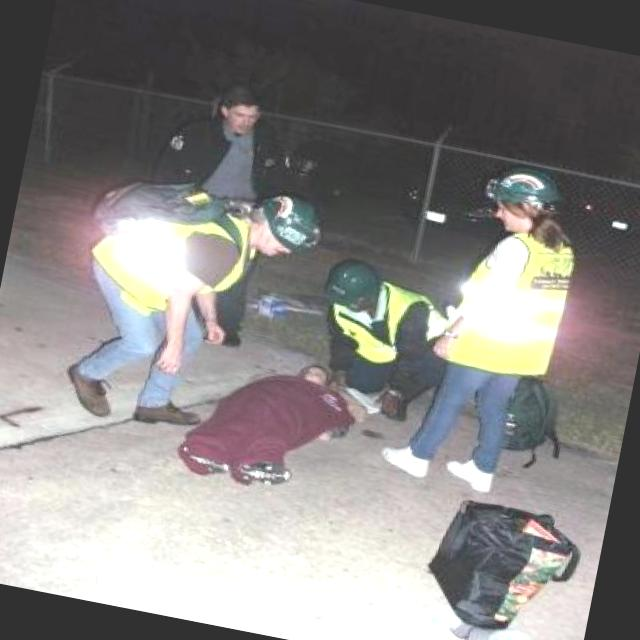vest: (92, 182, 248, 324), (442, 222, 580, 382), (326, 296, 438, 381)
